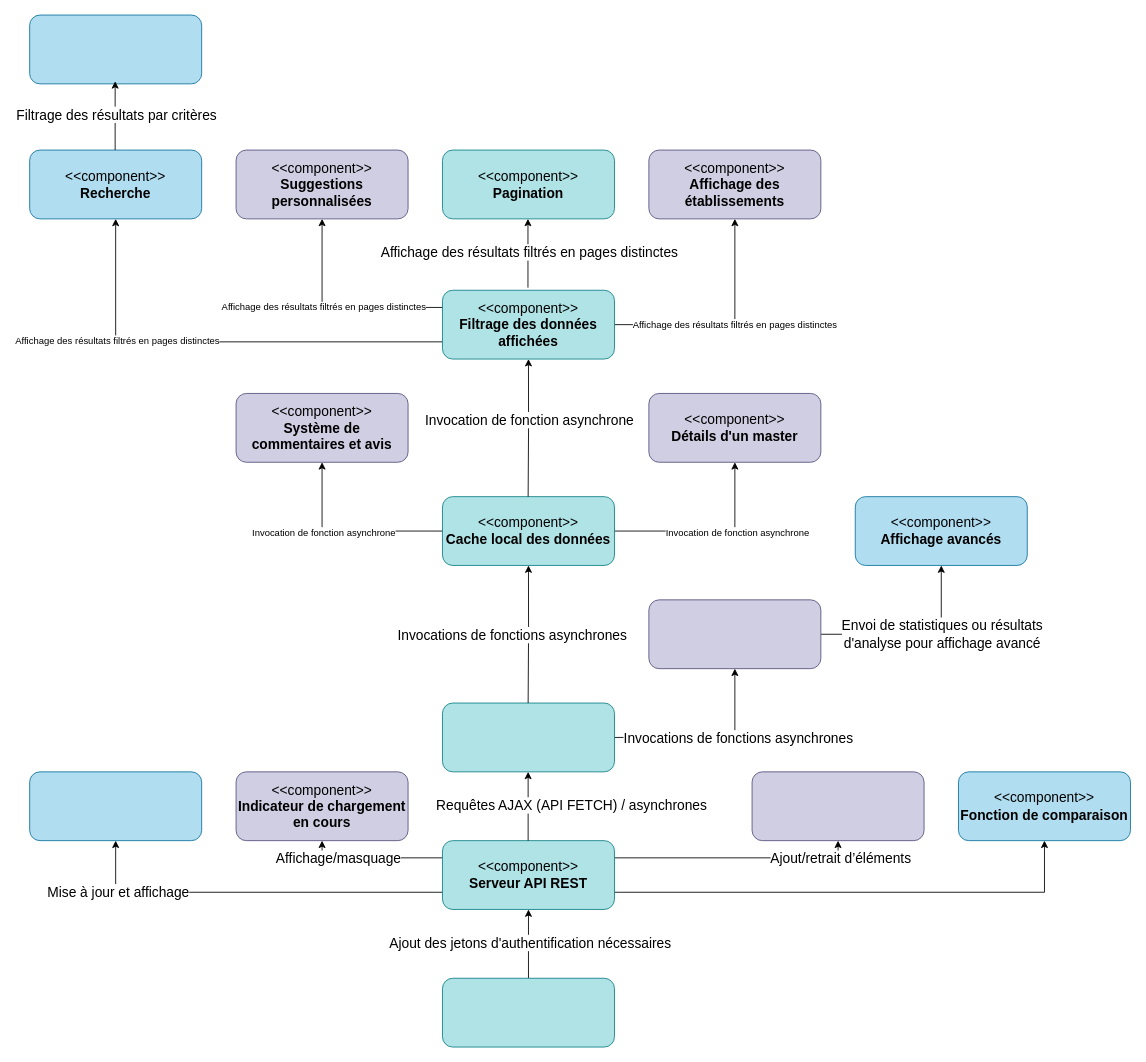
Image size: 1146x1062. Some labels were removed from this diagram. Here are the shapes that lost their labels. From the top down, the centre of each, then its label:
At point (115, 49): "<<component>> Gestion des filtres avancés".
At point (734, 634): "<<component>> Analyse des données".
At point (528, 737): "<<component>> Gestion de requête REST".
At point (115, 806): "<<component>> Affichage d'une erreur".
At point (837, 806): "<<component>> Gestion des favoris".
At point (528, 1012): "<<component>> Authentification".
